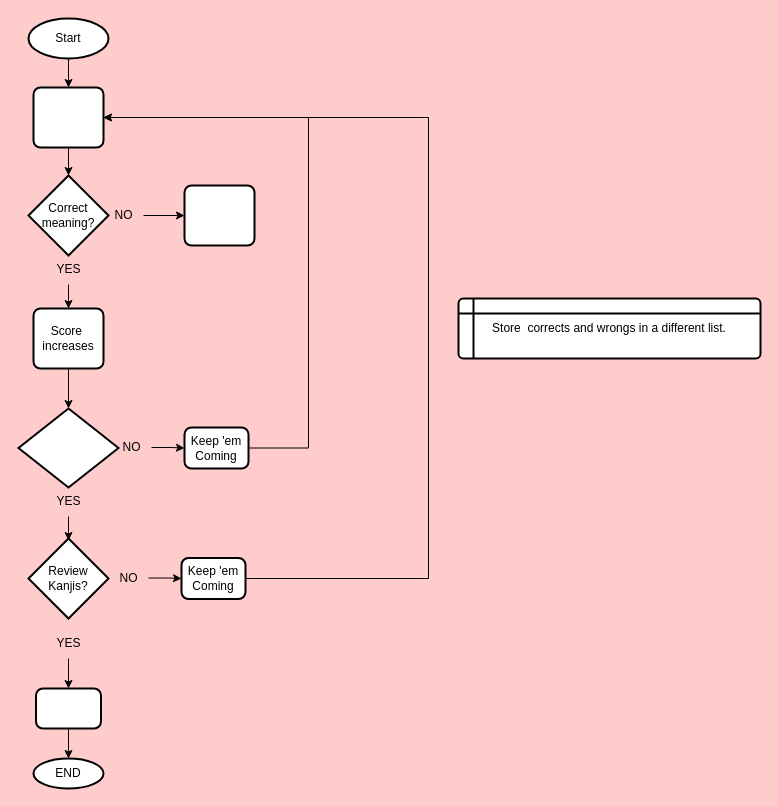
This 778x806 diagram has some shape labels left out. The centre of each missing label's shape, as x and y in pixels:
"Going to lists" belongs at (x=68, y=708).
"Kanji and 3 meanings are shown" belongs at (x=68, y=117).
"Score remains the same" belongs at (x=219, y=215).
"Were 7 kanji displayed?" belongs at (x=68, y=447).
